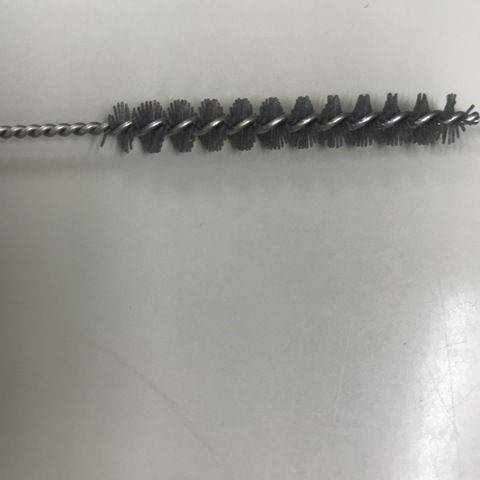Twist Brush-A: (1, 99, 473, 146)
